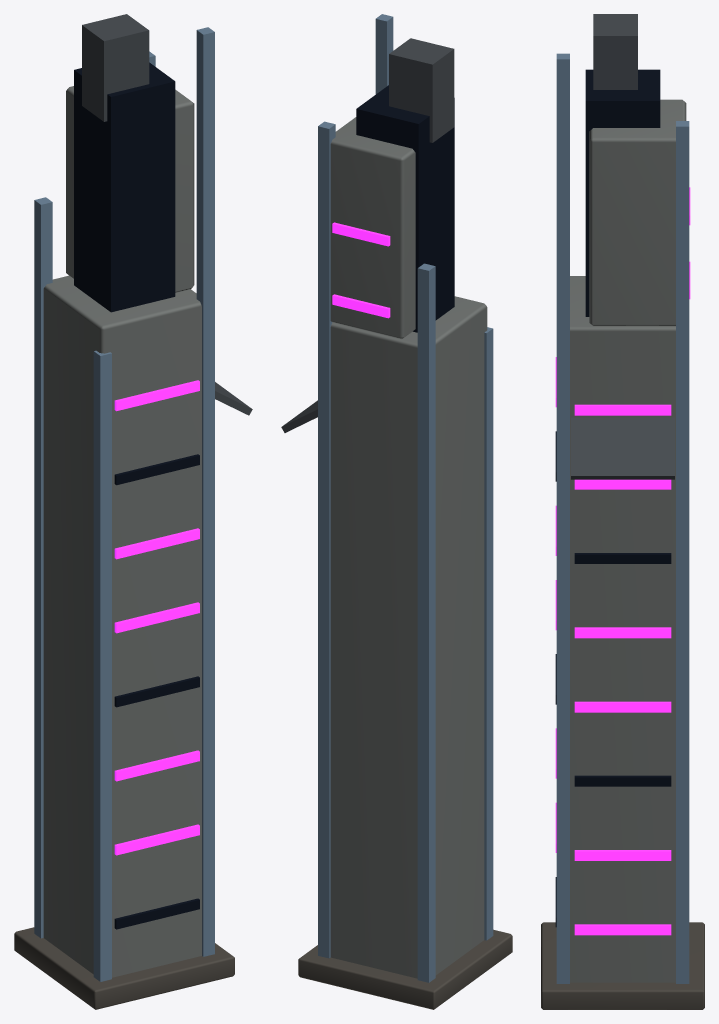
File: highrise_b.glb
3 renders of one model, left to right at view 1: azimuth 30°, elevation 25°; view 2: azimuth 150°, elevation 25°; view 3: azimuth 270°, elevation 25°, orthographic. The views are drawn at different scales.
Visible parts, largest first — view 1: Shell, Core, Corner column.003, Corner column.002, Corner column, Plinth, Upper shell, Crown, Window strip, Window strip.001, Window strip.002, Window strip.004 (+4 smaller); view 2: Shell, Upper shell, Corner column, Corner column.001, Core, Plinth, Corner column.002, Crown, Corner column.003, Window strip.016, Window strip.017; view 3: Shell, Upper shell, Corner column.003, Corner column.001, Hanging slab, Plinth, Core, Crown, Window strip.008, Window strip.010, Window strip.011, Window strip.012 (+4 smaller).
Boxes of the visible parts, x1,y1,x2,y2 form: Shell: (43,275,201,977); Core: (74,62,175,312); Corner column.003: (196,27,214,956); Corner column.002: (93,350,111,981); Corner column: (34,197,52,938); Plinth: (14,927,234,1009); Upper shell: (66,86,194,292); Crown: (82,14,149,121); Window strip: (114,898,199,929); Window strip.001: (114,824,199,855); Window strip.002: (114,750,199,781); Window strip.004: (114,602,199,633); Shell: (330,296,487,978); Upper shell: (330,117,415,339); Corner column: (417,263,435,982); Corner column.001: (318,121,335,958); Core: (356,85,454,332); Plinth: (298,929,512,1009); Corner column.002: (484,327,493,940); Crown: (389,38,454,142); Corner column.003: (375,14,393,94); Window strip.016: (332,294,390,318); Window strip.017: (332,222,390,246); Shell: (570,276,675,982); Upper shell: (589,99,686,326); Corner column.003: (556,53,569,983); Corner column.001: (676,121,689,983); Hanging slab: (571,417,674,479); Plinth: (541,922,704,1009); Core: (585,69,660,316); Crown: (593,14,637,89); Window strip.008: (574,924,671,935); Window strip.010: (574,775,671,786); Window strip.011: (574,701,671,712); Window strip.012: (574,627,671,638).
Bounding box in the file's own units: 2.69 × 14 × 2.2.
